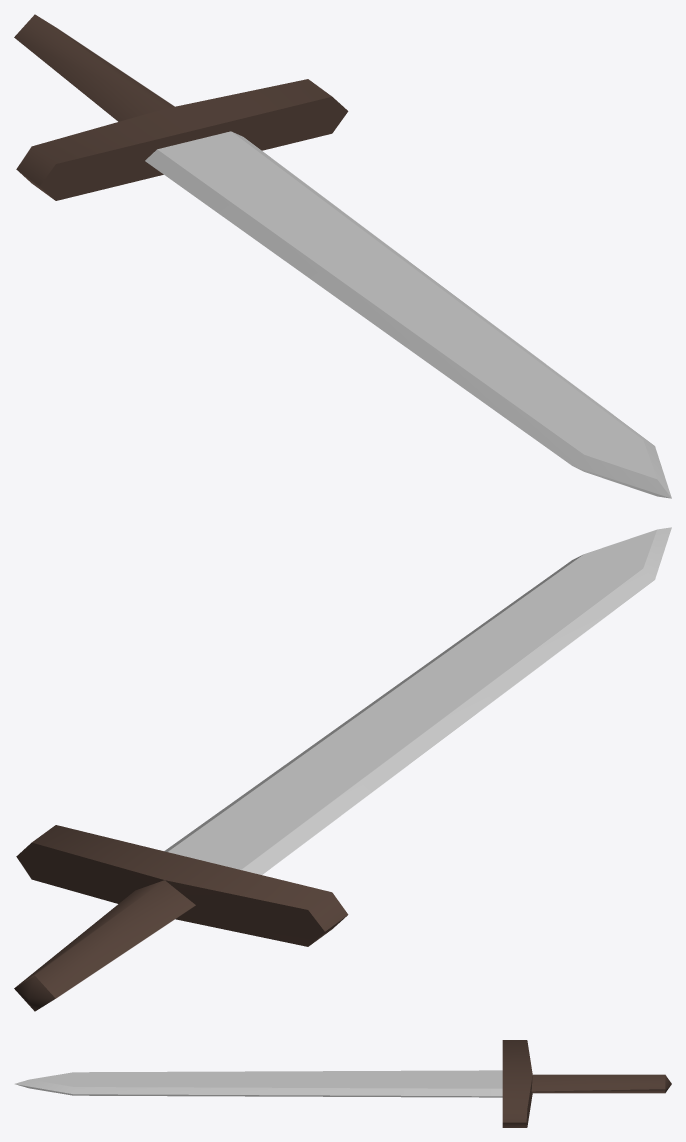
Rendered from Sword.dae.
3 views of the same model, one above another, from view 1: azimuth 30°, elevation 25°; view 2: azimuth 150°, elevation 25°; view 3: azimuth 270°, elevation 25° (orthographic). The views are drawn at different scales.
Parts seen in each view (by area): view 1: Sword; view 2: Sword; view 3: Sword.
Part boxes in pixels (x1,y1,x2,y2): Sword: (14, 14, 671, 498); Sword: (14, 527, 671, 1011); Sword: (15, 1040, 671, 1127).
Bounding box in the file's own units: 0.3517 × 1.27 × 0.0403.
Materials: 1 (1 with a texture image).
